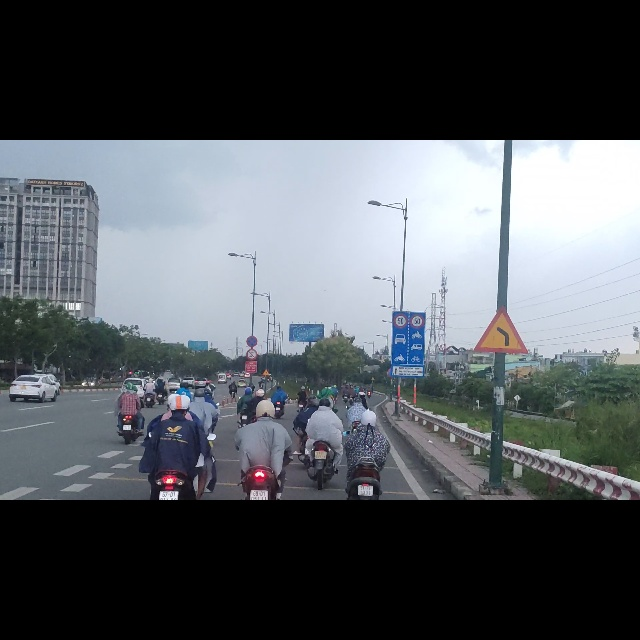bien_chi_dan: (473, 292, 528, 380), (393, 308, 408, 335), (409, 309, 424, 335), (246, 347, 258, 369), (246, 370, 257, 392), (262, 405, 270, 420)
